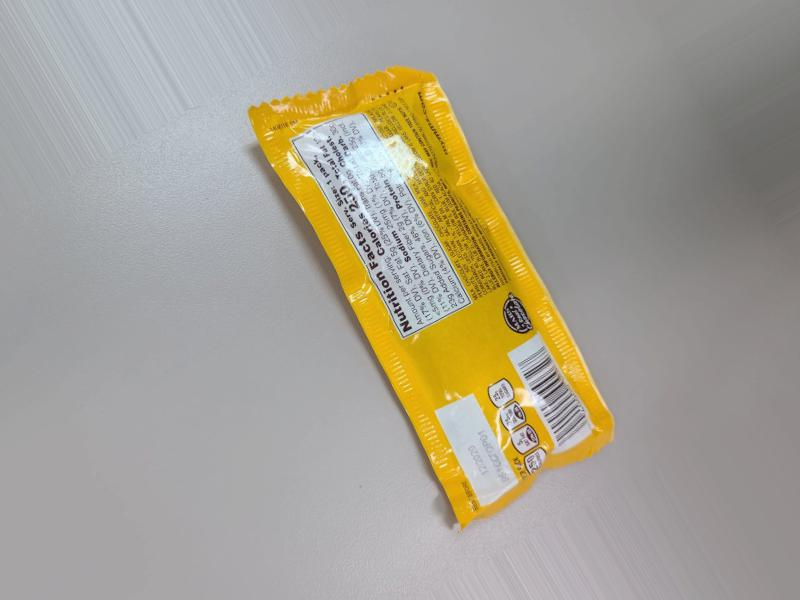m&m: (271, 103, 688, 570)
